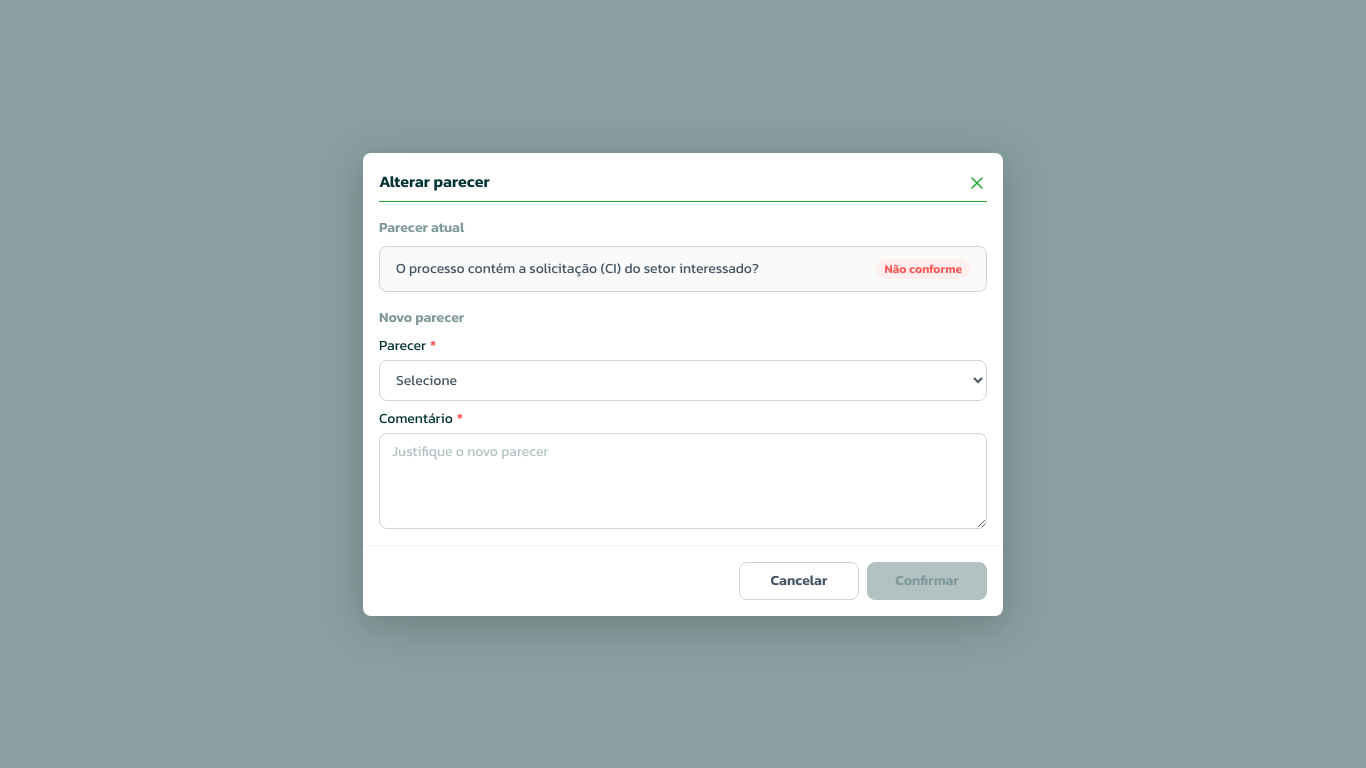
Test: AlterarParecerModal › erro de rede → mensagem genérica
Select "Conforme" in the dropdown labelled "Parecer *" at (683, 380), box [379,360,987,400]
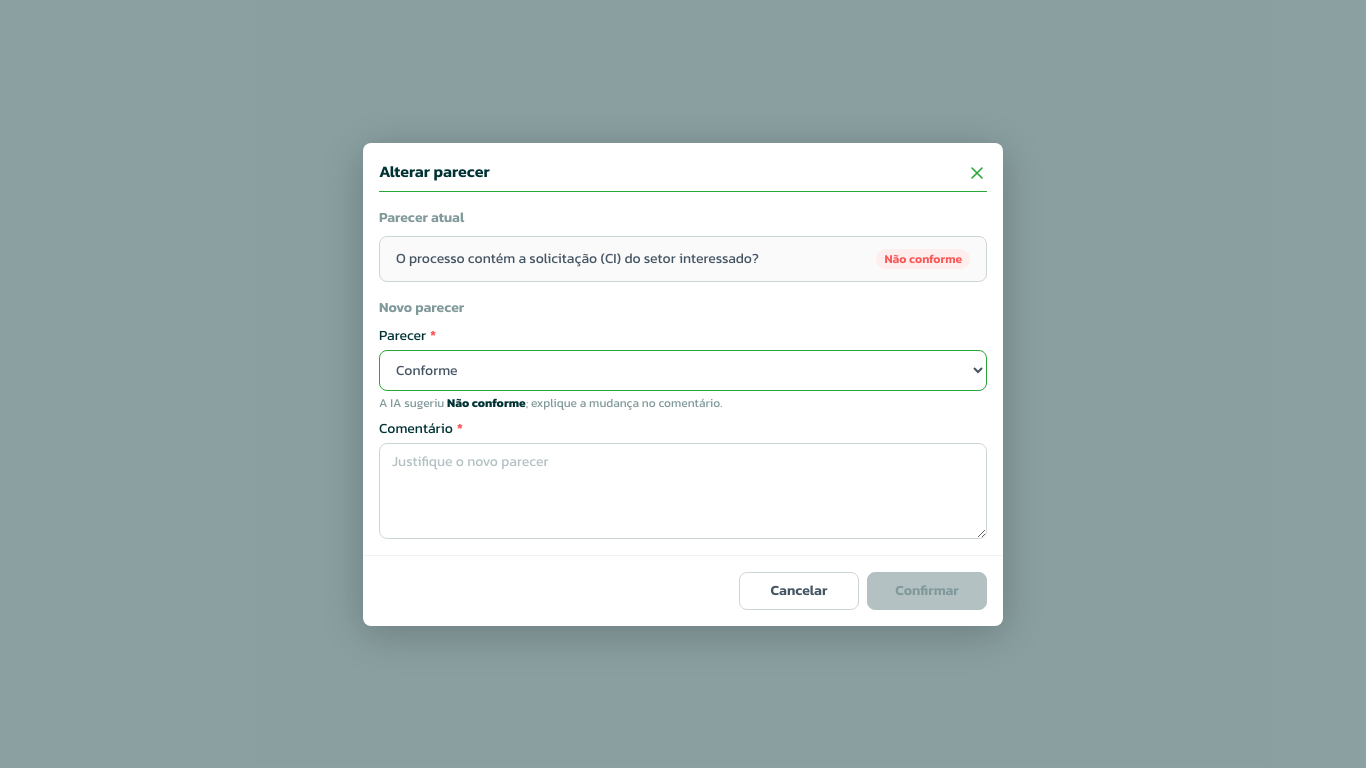
Type "ok" into the text box labelled "Comentário *" at (683, 490), box [379,442,987,538]
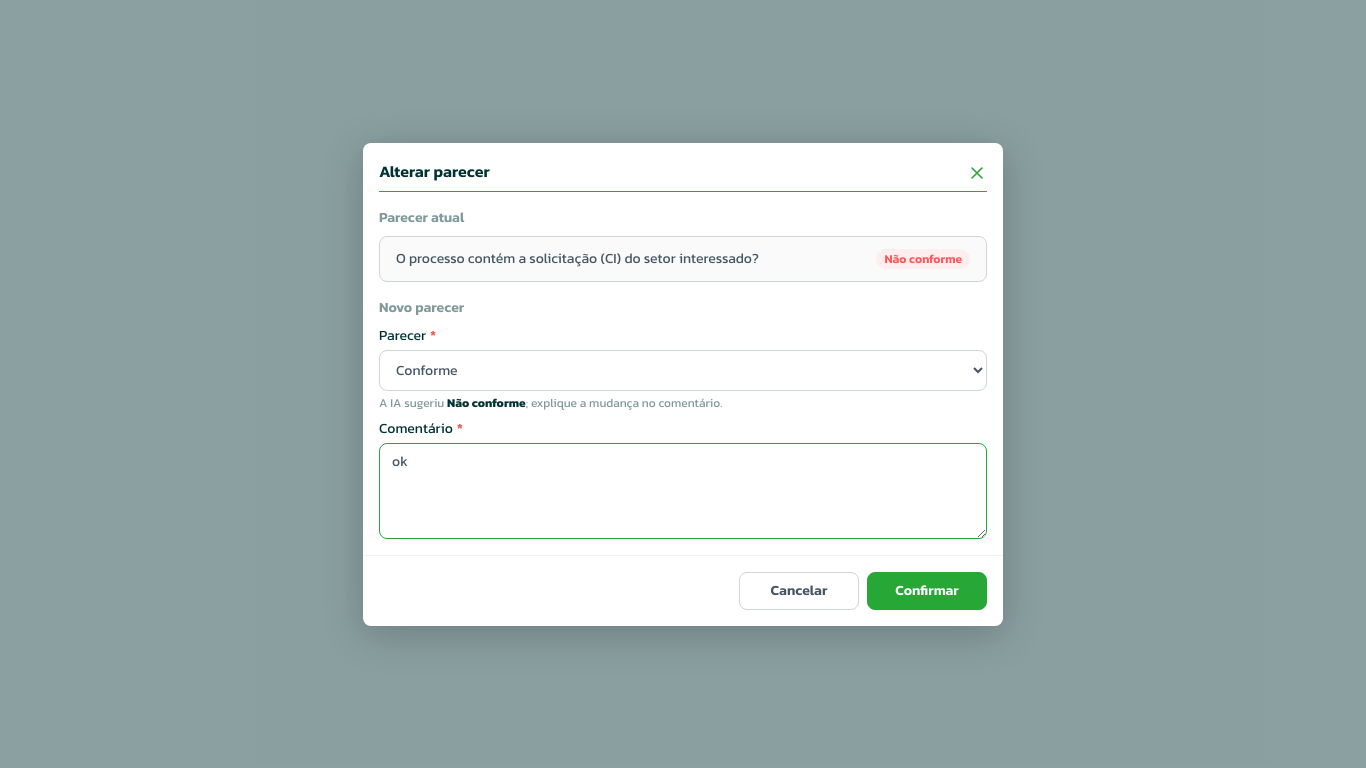
Click the button "Confirmar" at (927, 590), box [867,572,987,610]
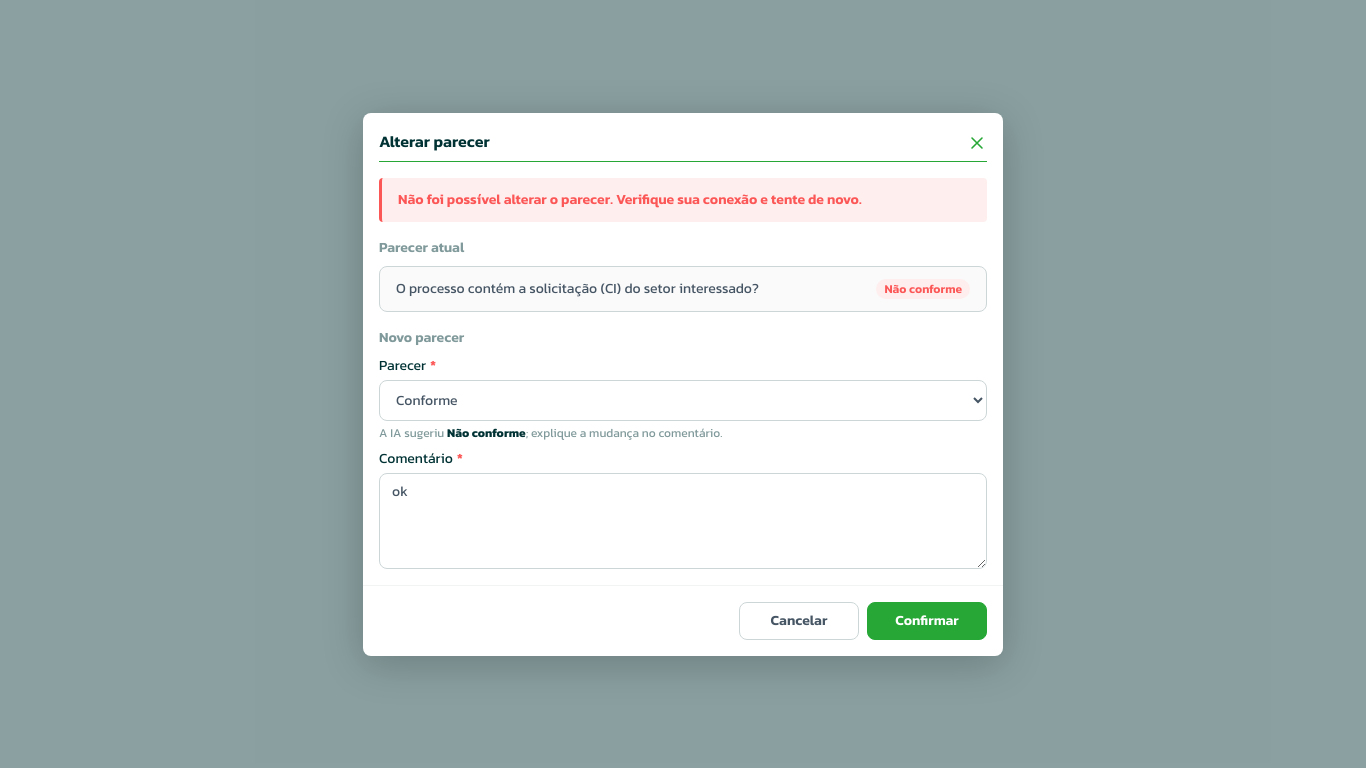
Check: the message shows "Não foi possível alterar o parecer", box [398,188,862,210]
